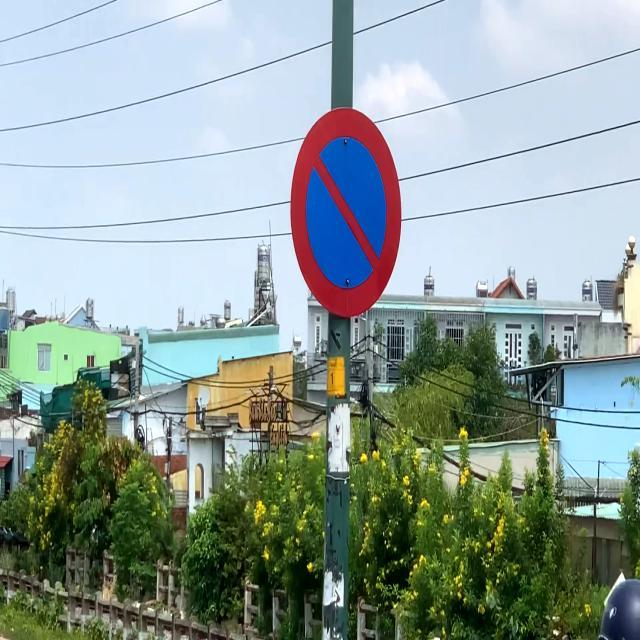P-131a: (288, 105, 402, 317)
